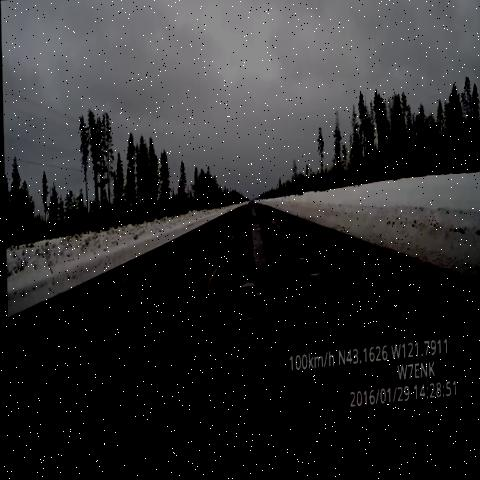pothole: (227, 310, 264, 369), (231, 274, 270, 314), (300, 268, 326, 297), (284, 250, 309, 277), (326, 300, 353, 325), (238, 216, 261, 242)
